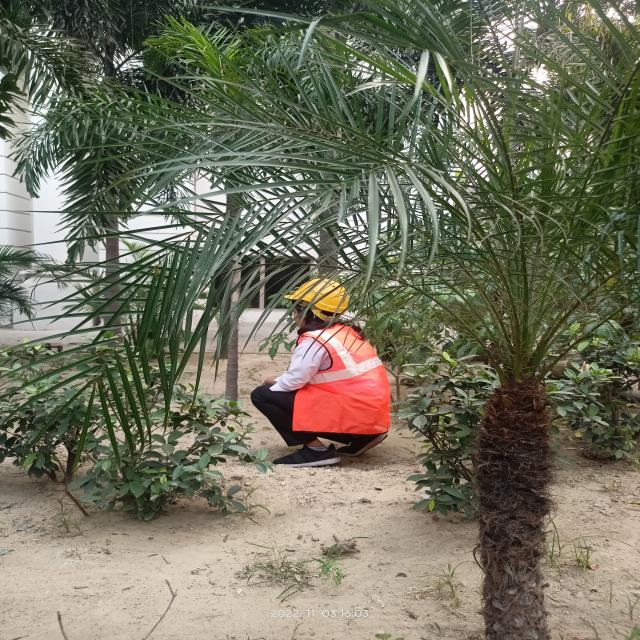safe: (248, 277, 395, 468)
